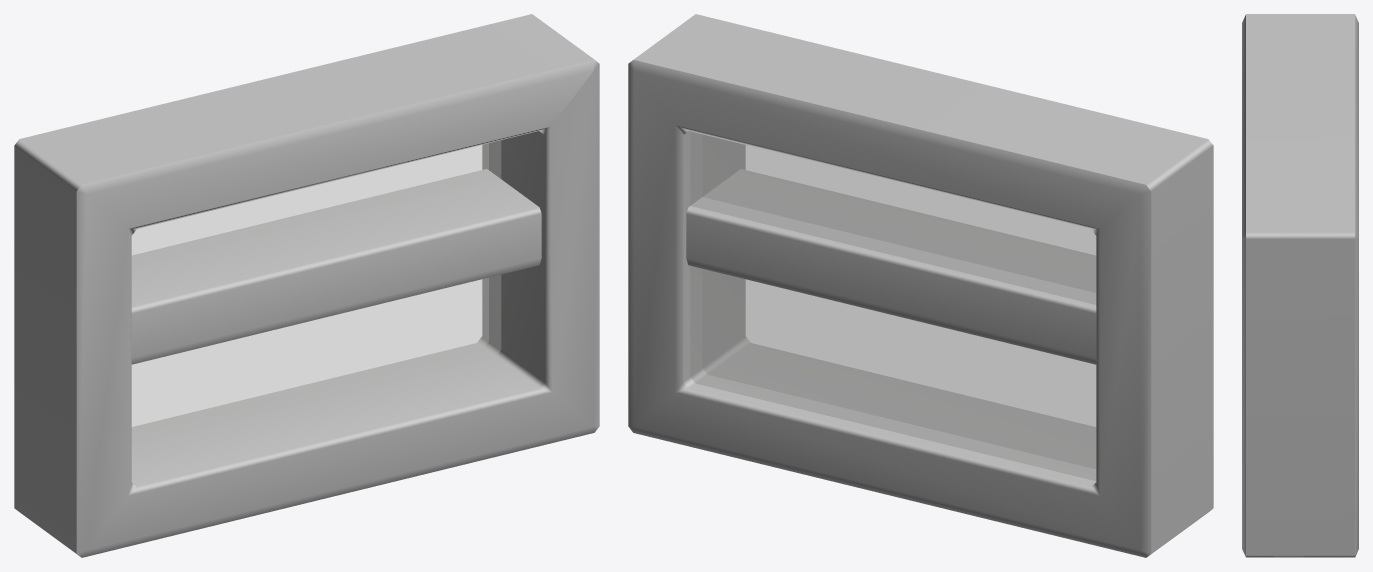
Rendered from Window_33.fbx.
3 renders of one model, left to right at view 1: azimuth 30°, elevation 25°; view 2: azimuth 150°, elevation 25°; view 3: azimuth 270°, elevation 25°, orthographic. The views are drawn at different scales.
Visible parts, largest first — view 1: Window_33; view 2: Window_33; view 3: Window_33.
Part boxes in pixels (box(x1,y1,x2,y2)): Window_33: box(14, 14, 599, 557); Window_33: box(628, 14, 1213, 557); Window_33: box(1242, 14, 1358, 557).
Bounding box in the file's own units: 191 × 131 × 42.45.
